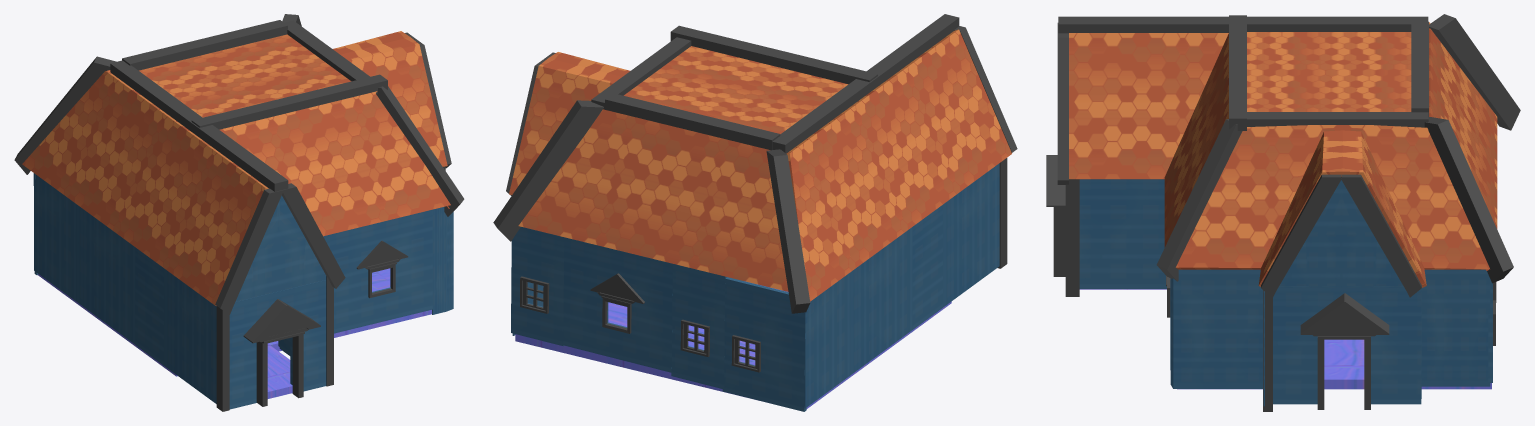
Rendered from MediumHouse2.fbx.
3 views of the same model, side by side, from view 1: azimuth 30°, elevation 25°; view 2: azimuth 150°, elevation 25°; view 3: azimuth 270°, elevation 25° (orthographic). The views are drawn at different scales.
Visible parts, largest first — view 1: Plane.203; view 2: Plane.203; view 3: Plane.203.
Part boxes in pixels (x1,y1,x2,y2): Plane.203: (14, 14, 464, 411); Plane.203: (493, 14, 1017, 411); Plane.203: (1046, 14, 1520, 411).
Bounding box in the file's own units: 456 × 294 × 499.
